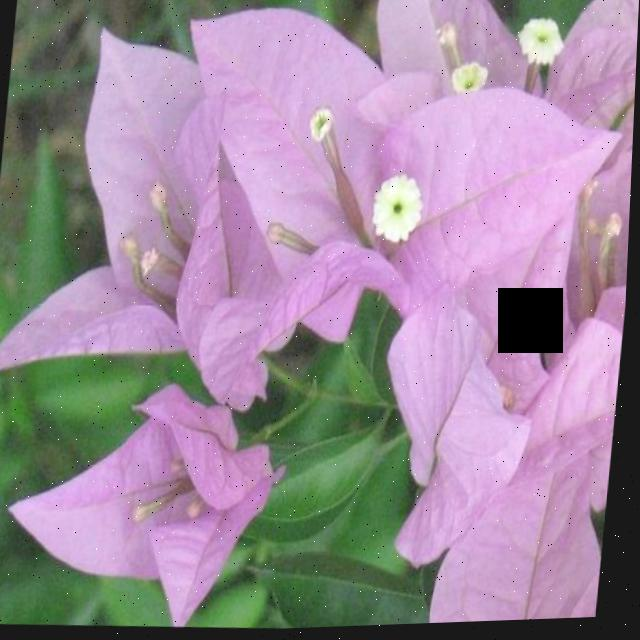bougainvillea: (138, 0, 640, 371), (0, 0, 393, 426), (0, 354, 330, 640)
